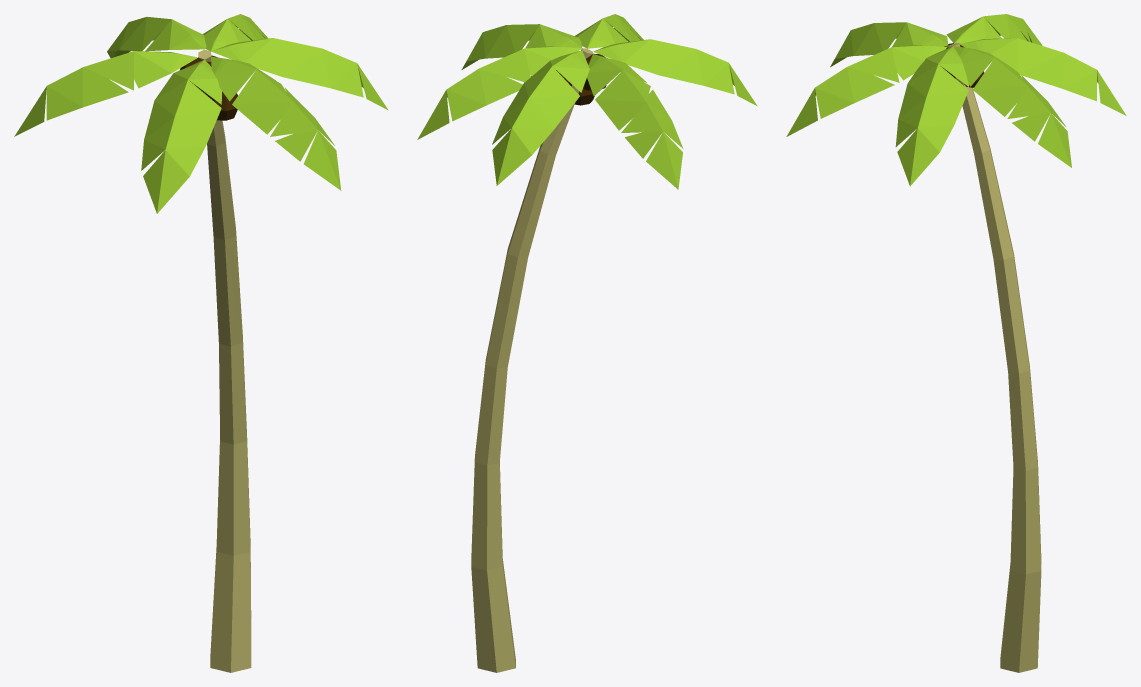
The model's file is palm_tree_2.fbx.
3 views of the same model, side by side, from view 1: azimuth 30°, elevation 25°; view 2: azimuth 150°, elevation 25°; view 3: azimuth 270°, elevation 25° (orthographic). The views are drawn at different scales.
Visible parts, largest first — view 1: G-Object.003, C-Palm Tree Leaf#4, C-Palm Tree Leaf#5.001, C-Palm Tree Leaf#5.002, C-Palm Tree Leaf#4.001, C-Palm Tree Leaf#4.002, C-Palm Tree Leaf#5; view 2: G-Object.003, C-Palm Tree Leaf#4.002, C-Palm Tree Leaf#5.002, C-Palm Tree Leaf#5, C-Palm Tree Leaf#4, C-Palm Tree Leaf#4.001, C-Palm Tree Leaf#5.001; view 3: G-Object.003, C-Palm Tree Leaf#4.001, C-Palm Tree Leaf#5, C-Palm Tree Leaf#5.001, C-Palm Tree Leaf#4.002, C-Palm Tree Leaf#4, C-Palm Tree Leaf#5.002.
Boxes of the visible parts, x1,y1,x2,y2 form: G-Object.003: (198,49,251,672); C-Palm Tree Leaf#4: (141,59,221,213); C-Palm Tree Leaf#5.001: (211,56,341,190); C-Palm Tree Leaf#5.002: (14,51,197,136); C-Palm Tree Leaf#4.001: (211,38,388,110); C-Palm Tree Leaf#4.002: (107,17,206,58); C-Palm Tree Leaf#5: (203,14,268,51); G-Object.003: (471,48,592,672); C-Palm Tree Leaf#4.002: (492,50,589,185); C-Palm Tree Leaf#5.002: (587,54,683,189); C-Palm Tree Leaf#5: (417,46,581,139); C-Palm Tree Leaf#4: (593,39,757,106); C-Palm Tree Leaf#4.001: (461,24,581,69); C-Palm Tree Leaf#5.001: (574,14,643,48); G-Object.003: (948,43,1041,672); C-Palm Tree Leaf#4.001: (895,46,968,186); C-Palm Tree Leaf#5: (953,46,1071,167); C-Palm Tree Leaf#5.001: (786,45,947,136); C-Palm Tree Leaf#4.002: (959,38,1126,115); C-Palm Tree Leaf#4: (830,22,948,67); C-Palm Tree Leaf#5.002: (946,14,1042,45).
Size of the model in its own units: 490 by 1014 by 522.
